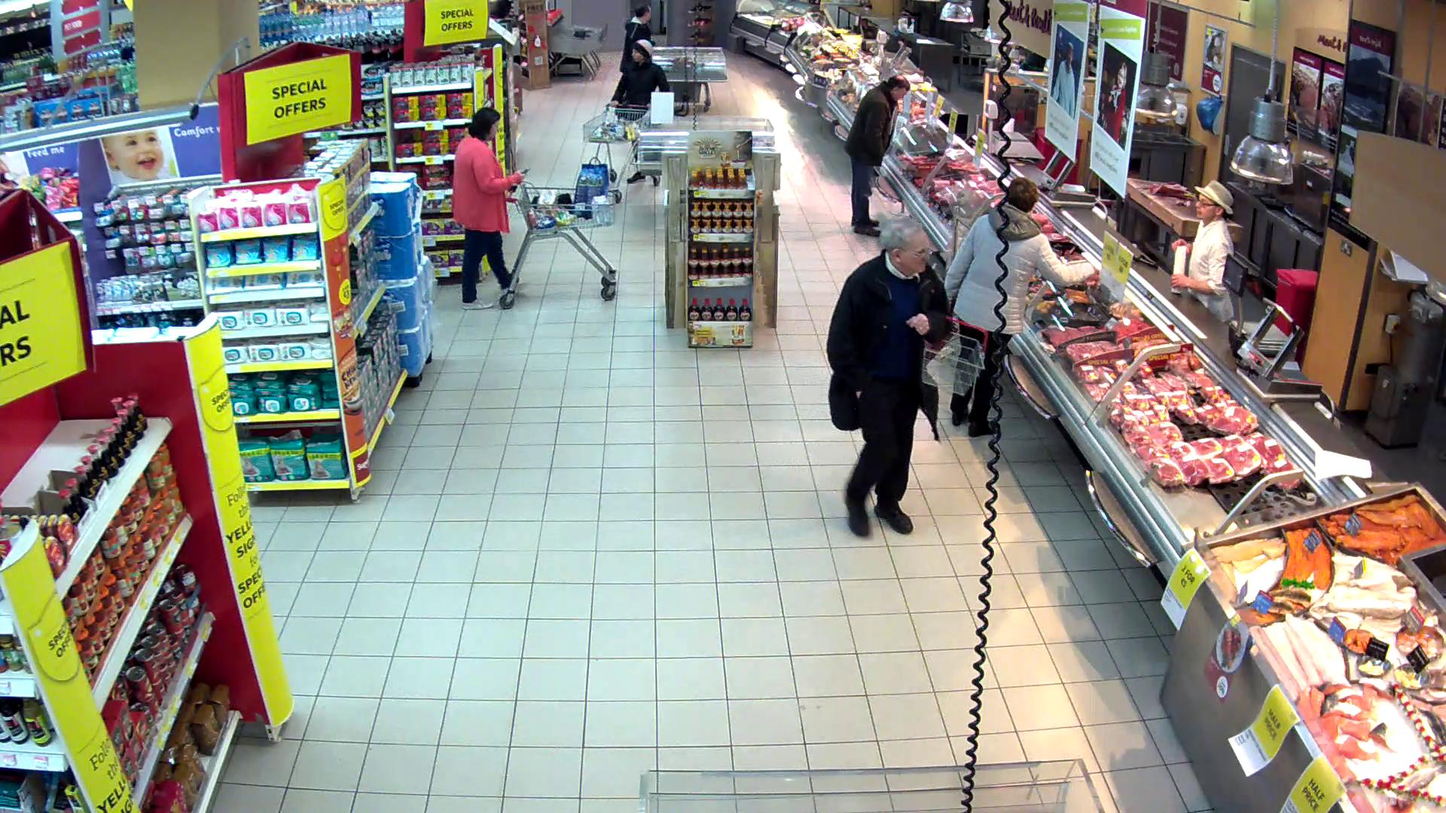empty-basket: (922, 315, 986, 397)
filled-trolly: (500, 179, 618, 309), (583, 103, 661, 204)
person: (826, 217, 951, 536), (451, 107, 528, 310), (609, 38, 669, 183)
person-with-empty-basket-trolly: (827, 216, 987, 539)
person-with-filled-basket-trolly: (451, 107, 618, 309), (583, 38, 669, 205)
